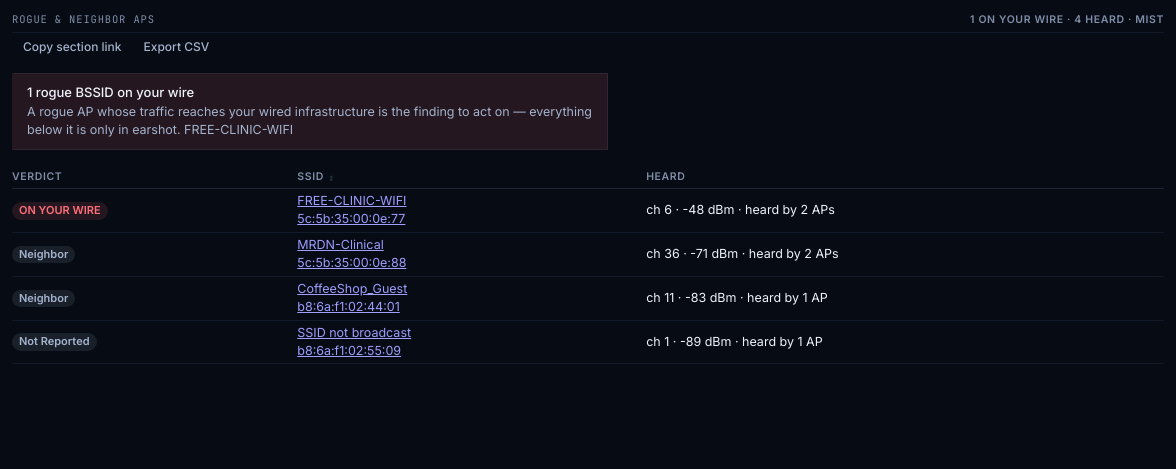
SiteRogueAps › offers Export CSV of the sorted site rogue rows (no secrets)
Click the button "Export CSV" at (176, 46), box [132,33,220,59]
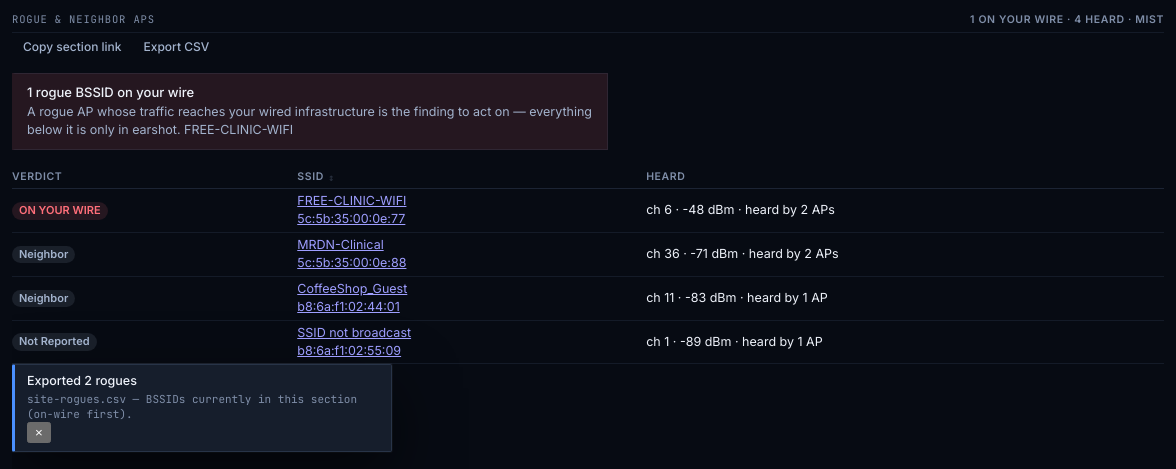
Expected: the text "Exported 2 rogues" is shown, [27,374,137,388]
